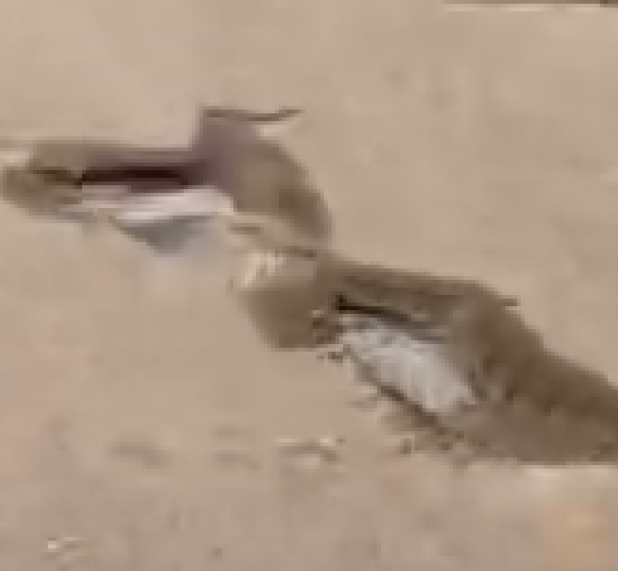Berlubang: (253, 222, 553, 442), (37, 121, 288, 244)
